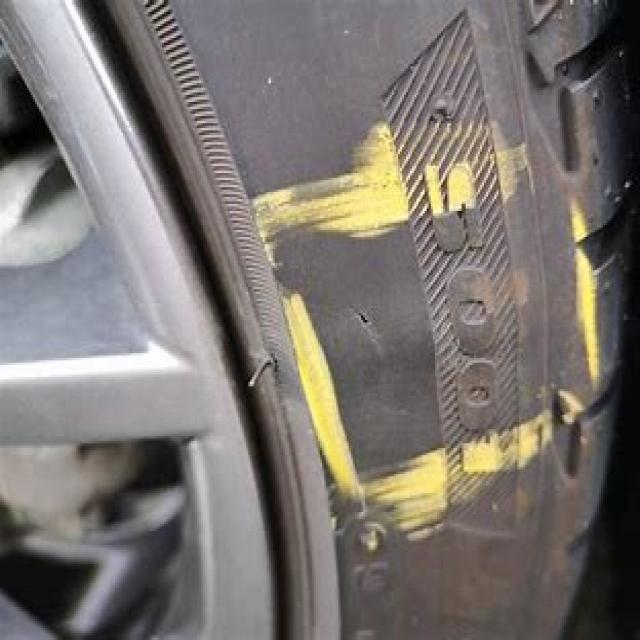Bulge: (264, 278, 540, 404)
